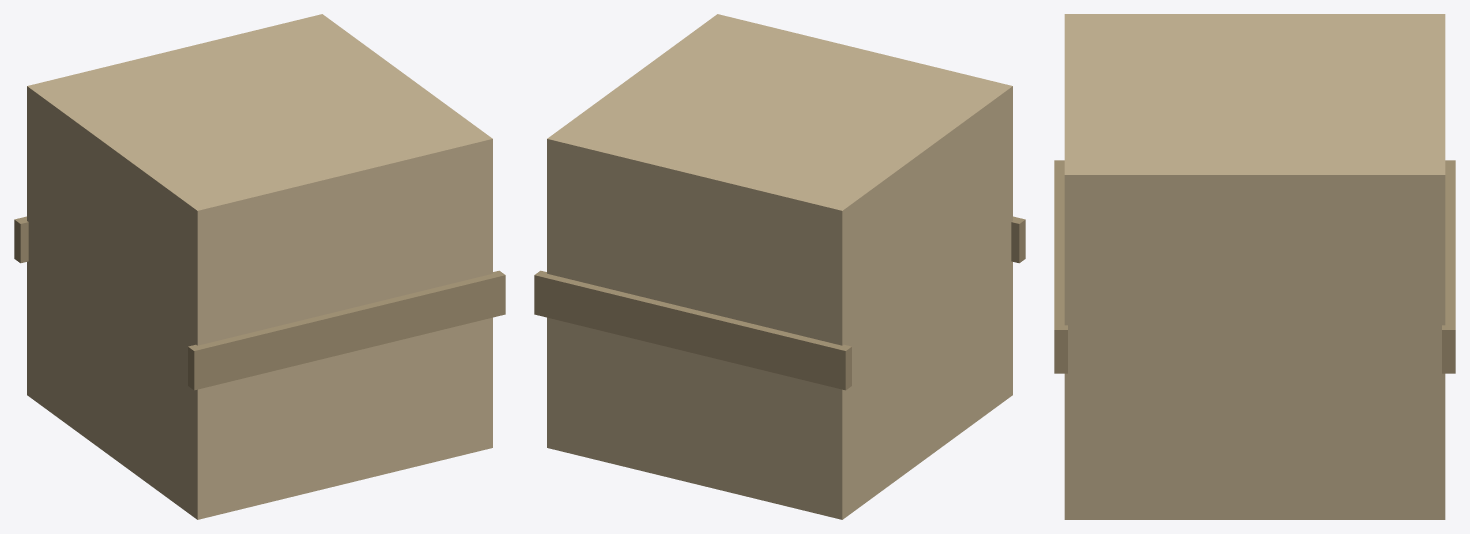
File: crate.glb
3 renders of one model, left to right at view 1: azimuth 30°, elevation 25°; view 2: azimuth 150°, elevation 25°; view 3: azimuth 270°, elevation 25°, orthographic. The views are drawn at different scales.
Parts seen in each view (by area): view 1: crate; view 2: crate; view 3: crate.
Boxes of the visible parts, x1,y1,x2,y2 form: crate: (14, 14, 505, 519); crate: (534, 14, 1025, 519); crate: (1054, 14, 1455, 519).
Size of the model in its own units: 0.58 by 0.55 by 0.58.
